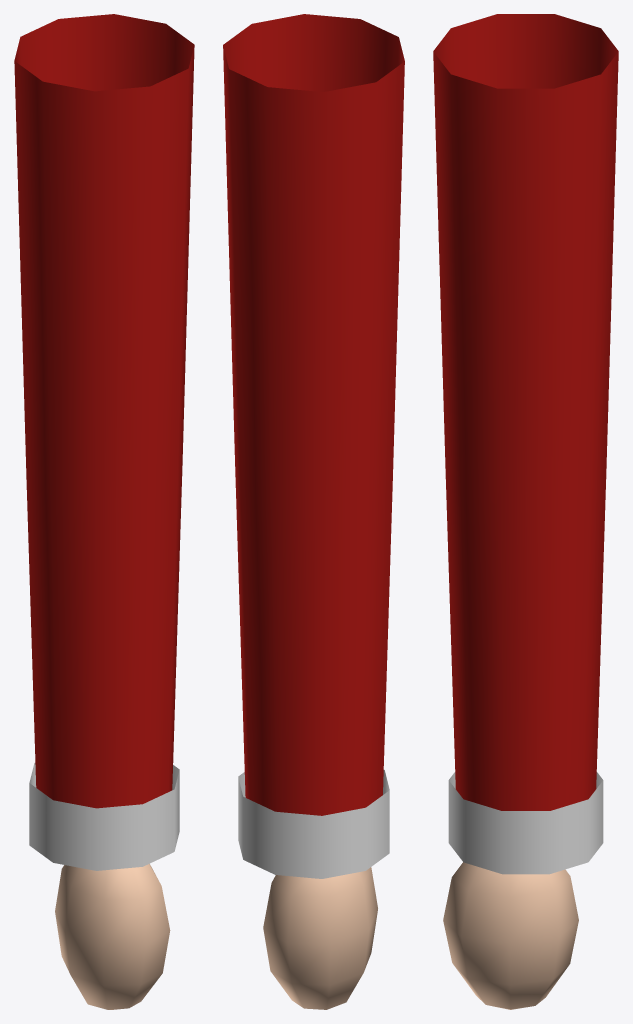
The model's file is SM_Avatar_ArmL.fbx.
3 renders of one model, left to right at view 1: azimuth 30°, elevation 25°; view 2: azimuth 150°, elevation 25°; view 3: azimuth 270°, elevation 25°, orthographic.
Parts seen in each view (by area): view 1: SM_Avatar_ArmL; view 2: SM_Avatar_ArmL; view 3: SM_Avatar_ArmL.
Boxes of the visible parts, left/top/right/bottom form: SM_Avatar_ArmL: left=14, top=14, right=194, bottom=1009; SM_Avatar_ArmL: left=223, top=14, right=404, bottom=1009; SM_Avatar_ArmL: left=433, top=14, right=618, bottom=1009.
Bounding box in the file's own units: 0.1141 × 0.684 × 0.12.
